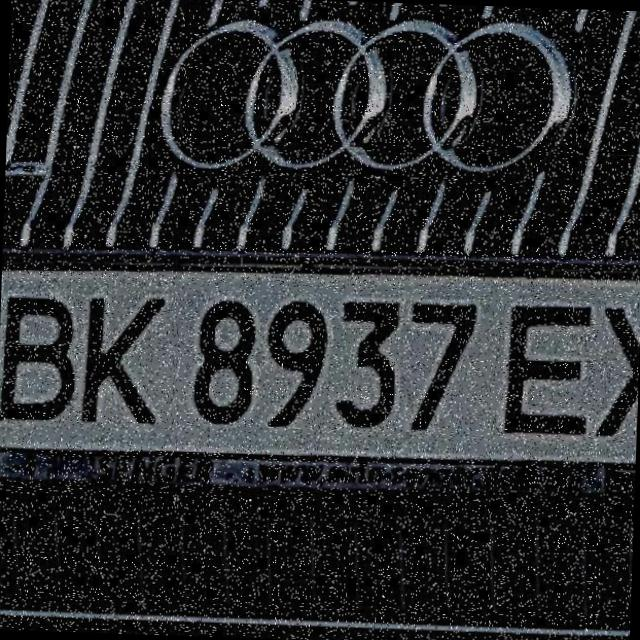LicensePlate: (0, 243, 640, 497)
